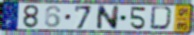5: (130, 6, 147, 31)
6: (44, 5, 63, 29)
7: (74, 4, 93, 30)
8: (22, 4, 40, 29)
D: (149, 6, 176, 32)
N: (96, 5, 121, 31)
